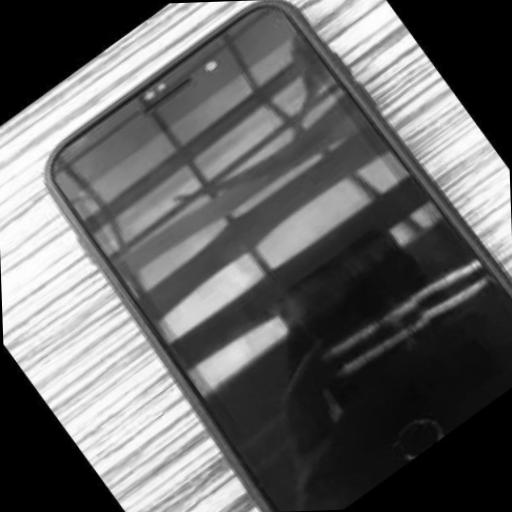phone: (40, 0, 512, 506)
